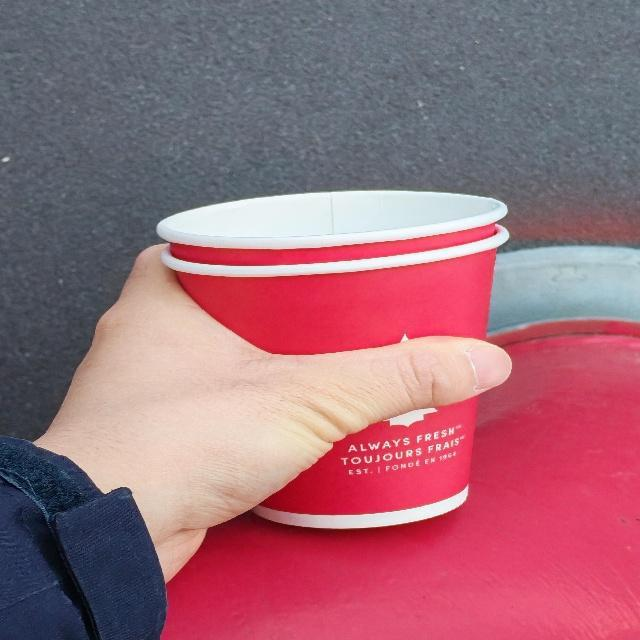timmies: (153, 222, 514, 534)
